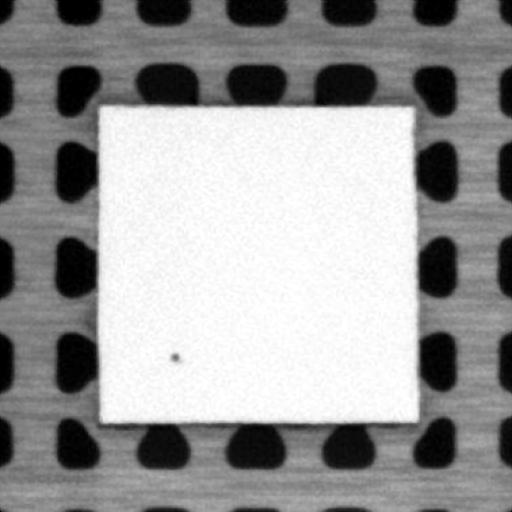DIE_INK: (165, 348, 180, 364)
